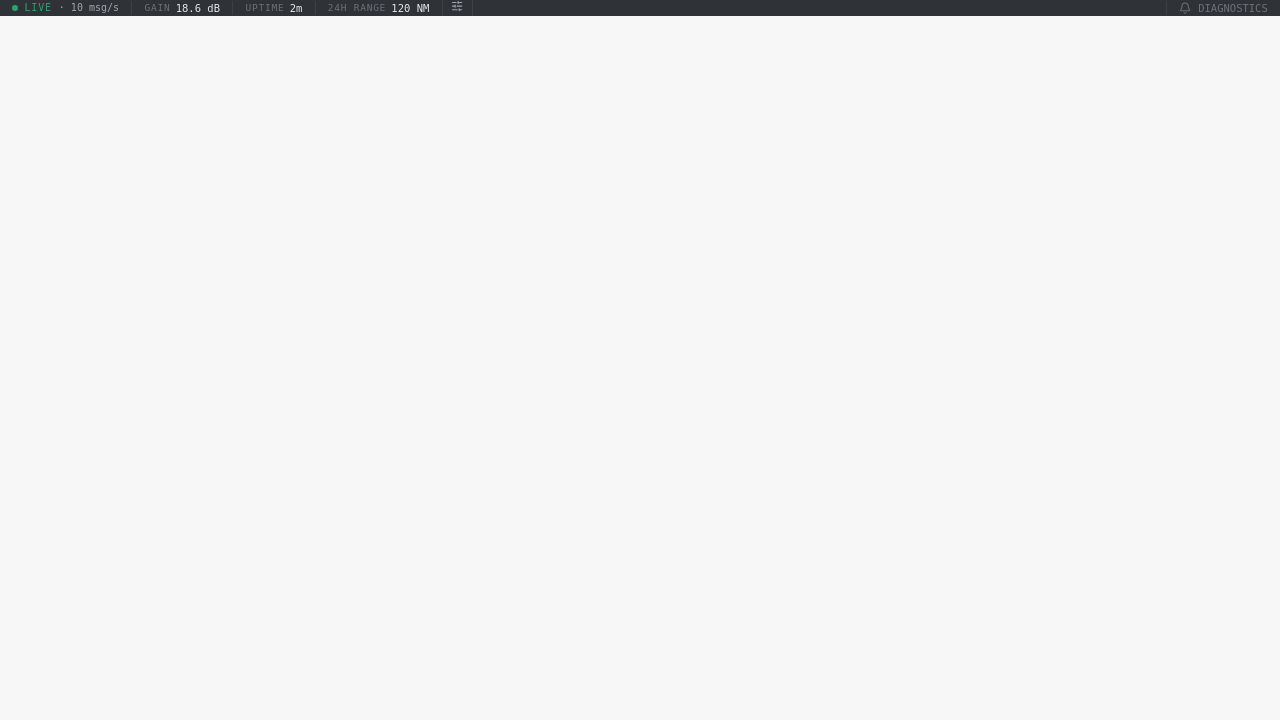
StatusBar › shows suppressed diagnostics and restores notification delivery
Click the button with test id "diagnostics-center-button".
click(1223, 8)  # box [1167, 1, 1279, 15]
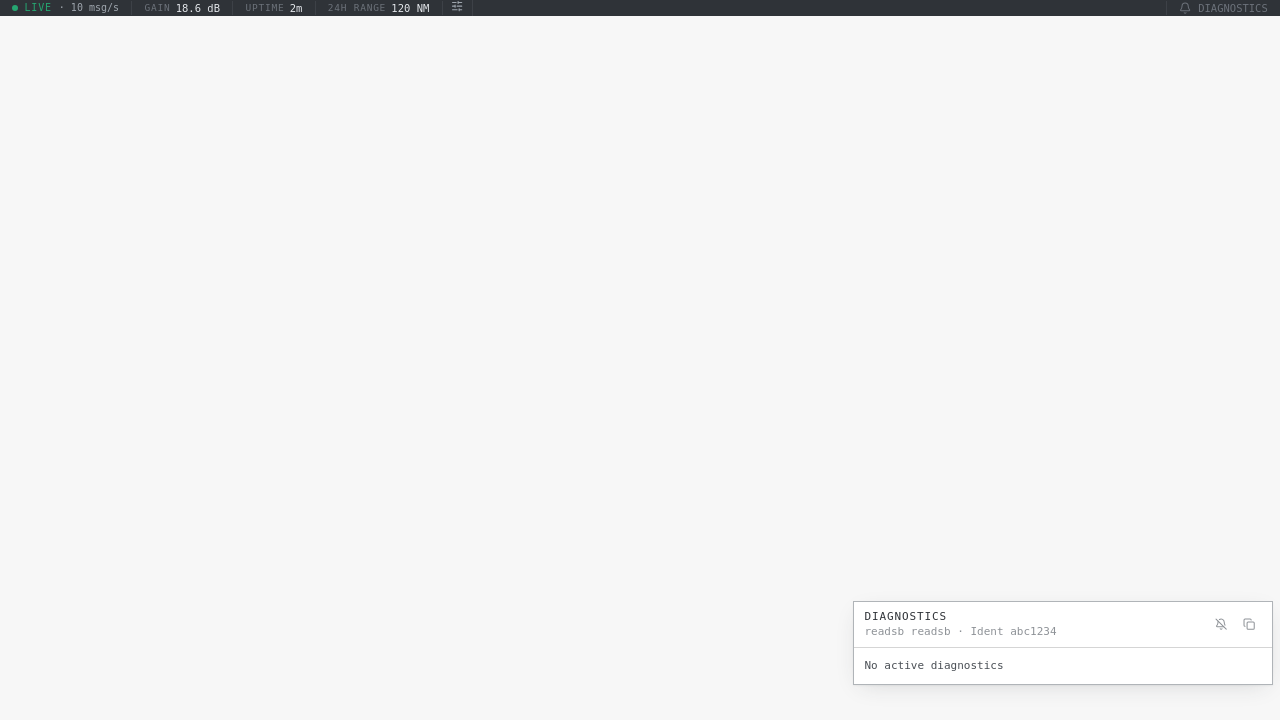
Expected: the text "stats window is missing start/end" is not shown
Result: the dialog shows "No active diagnostics" at [864, 659, 1004, 672]
Click the button named "Show ignored".
click(1221, 624)  # box [1209, 612, 1234, 636]
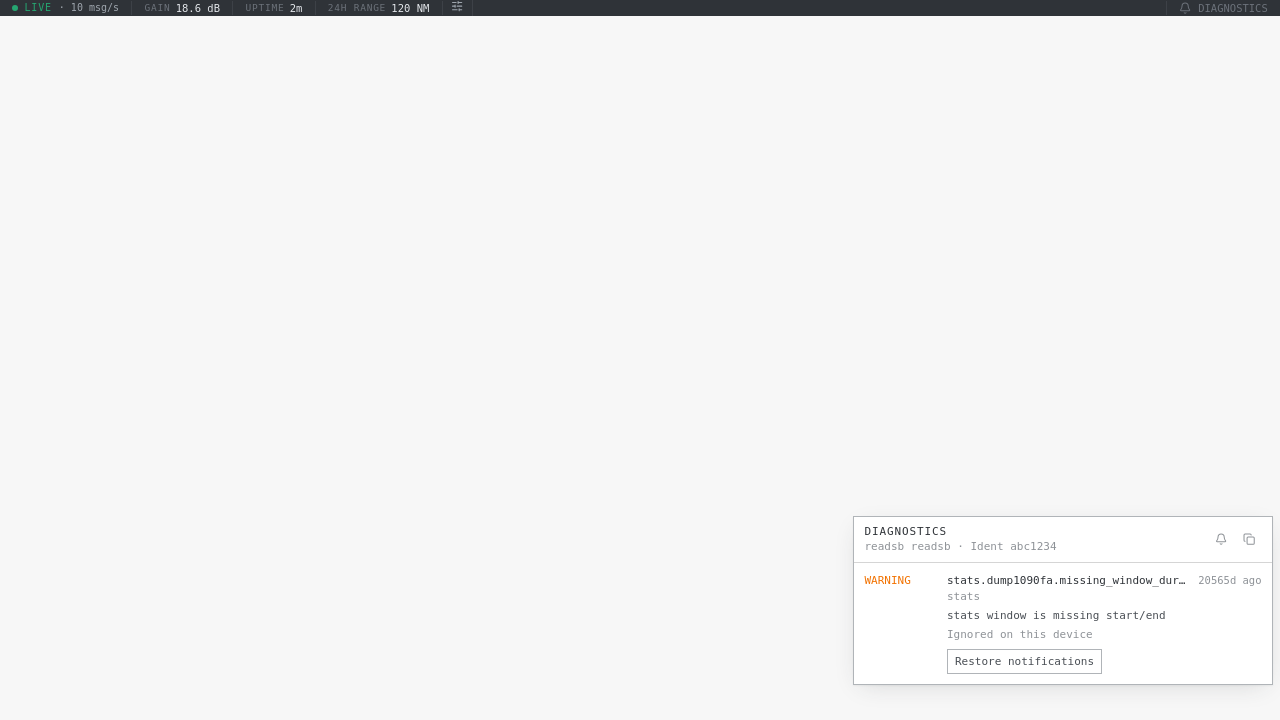
Result: the dialog shows "stats window is missing start/end" at [947, 609, 1166, 622]
Result: the dialog shows "Ignored on this device" at [947, 628, 1093, 641]
Result: the button "Restore notifications" is shown
Click the button "Restore notifications".
click(1025, 661)  # box [947, 649, 1102, 674]
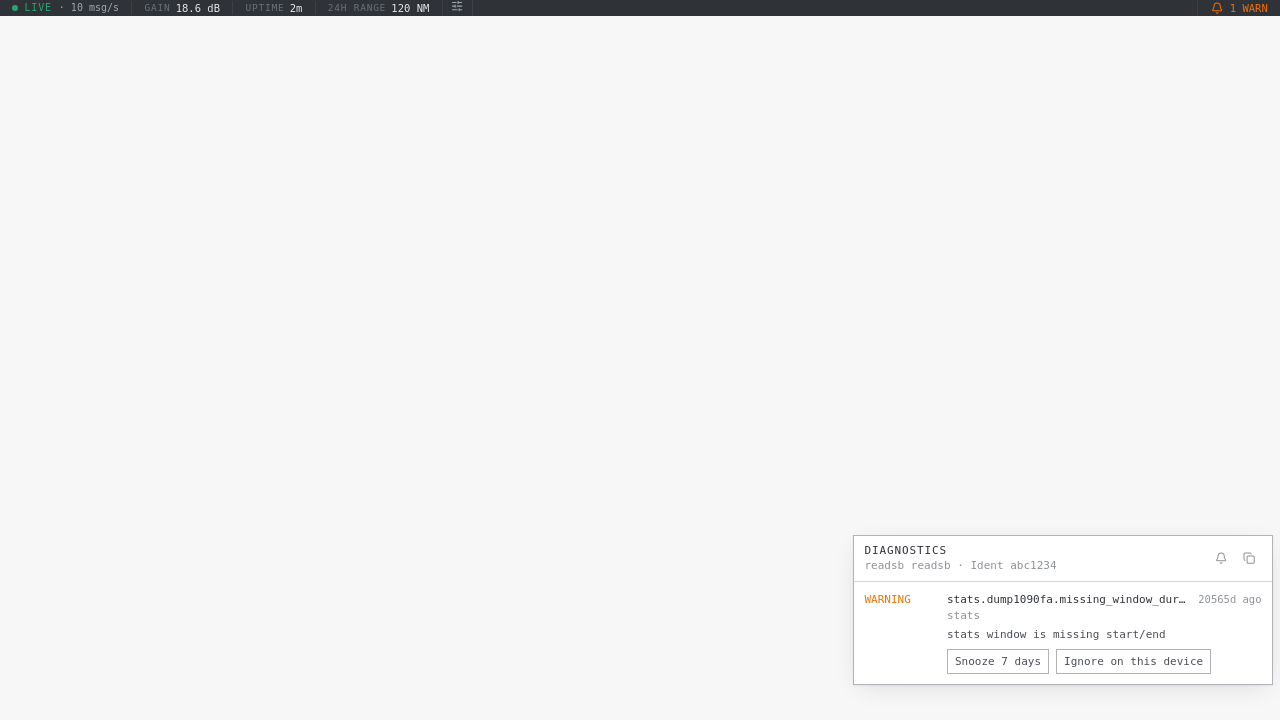
Result: the dialog shows "Snooze 7 days" at [947, 649, 1049, 674]
Result: the dialog shows "Ignore on this device" at [1056, 649, 1211, 674]
